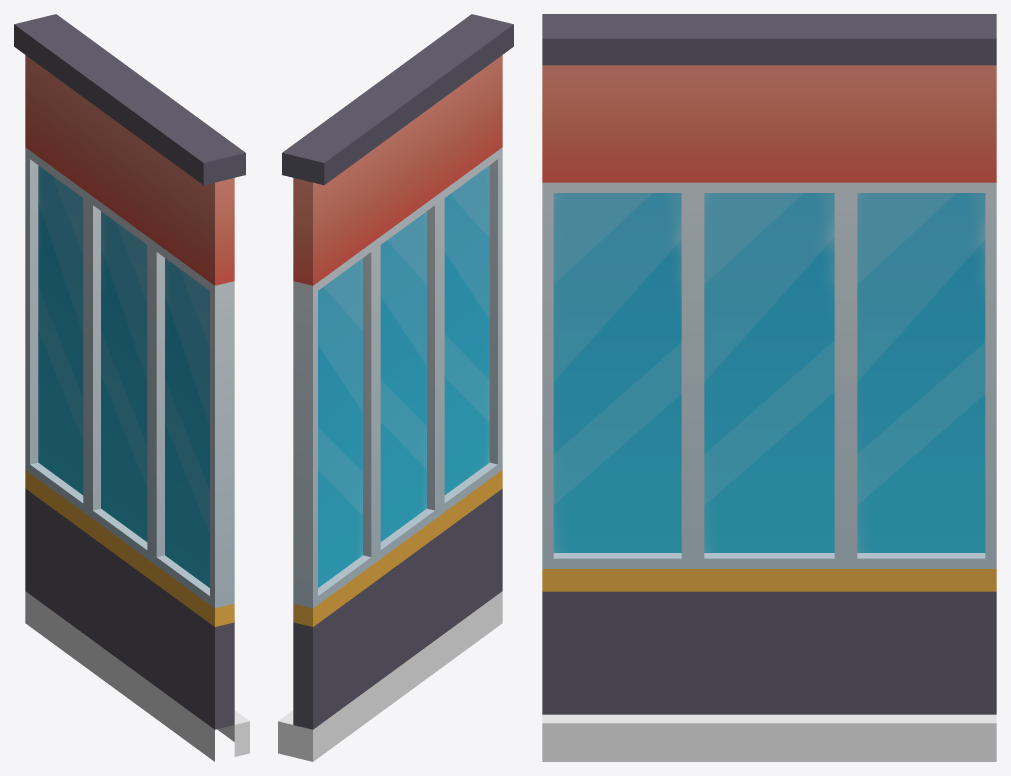
File: 3Wall_Window.fbx
3 renders of one model, left to right at view 1: azimuth 30°, elevation 25°; view 2: azimuth 150°, elevation 25°; view 3: azimuth 270°, elevation 25°, orthographic. The views are drawn at different scales.
Parts seen in each view (by area): view 1: 3Wall_Window; view 2: 3Wall_Window; view 3: 3Wall_Window.
Part boxes in pixels (left/top/right/bottom): 3Wall_Window: left=14, top=14, right=249, bottom=761; 3Wall_Window: left=278, top=14, right=513, bottom=761; 3Wall_Window: left=542, top=14, right=996, bottom=761.
Bounding box in the file's own units: 28.14 × 350 × 200.
